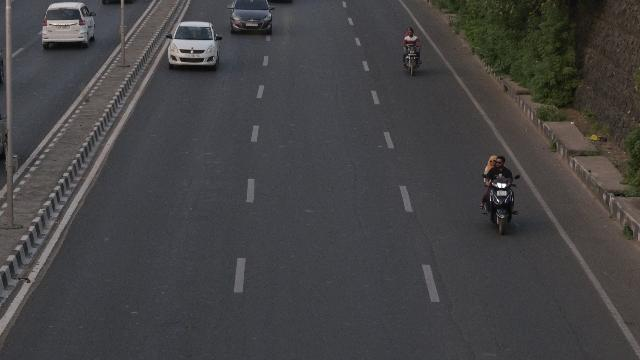Without Helmet: (494, 156, 506, 168), (488, 155, 496, 165), (408, 29, 414, 37)
